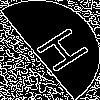H: (25, 25, 91, 81)
